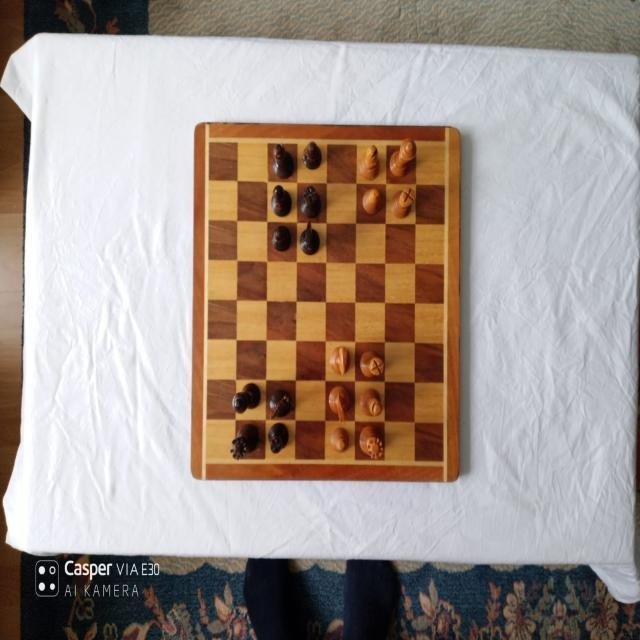black-bishop: (271, 143, 294, 179), (271, 184, 291, 217)
black-king: (231, 382, 261, 413)
black-knight: (268, 388, 291, 419), (300, 221, 320, 255)
black-pawn: (302, 141, 322, 171), (271, 224, 292, 251)
black-queen: (230, 424, 258, 459)
black-rook: (300, 185, 322, 219), (268, 422, 288, 453)
white-bishop: (359, 145, 381, 181), (361, 388, 383, 416)
white-king: (389, 137, 416, 176)
white-knight: (330, 385, 350, 422), (330, 345, 350, 375)
white-pawn: (362, 189, 382, 215), (331, 427, 349, 452)
white-queen: (360, 425, 384, 459)
white-rook: (390, 186, 415, 217), (359, 350, 384, 378)
